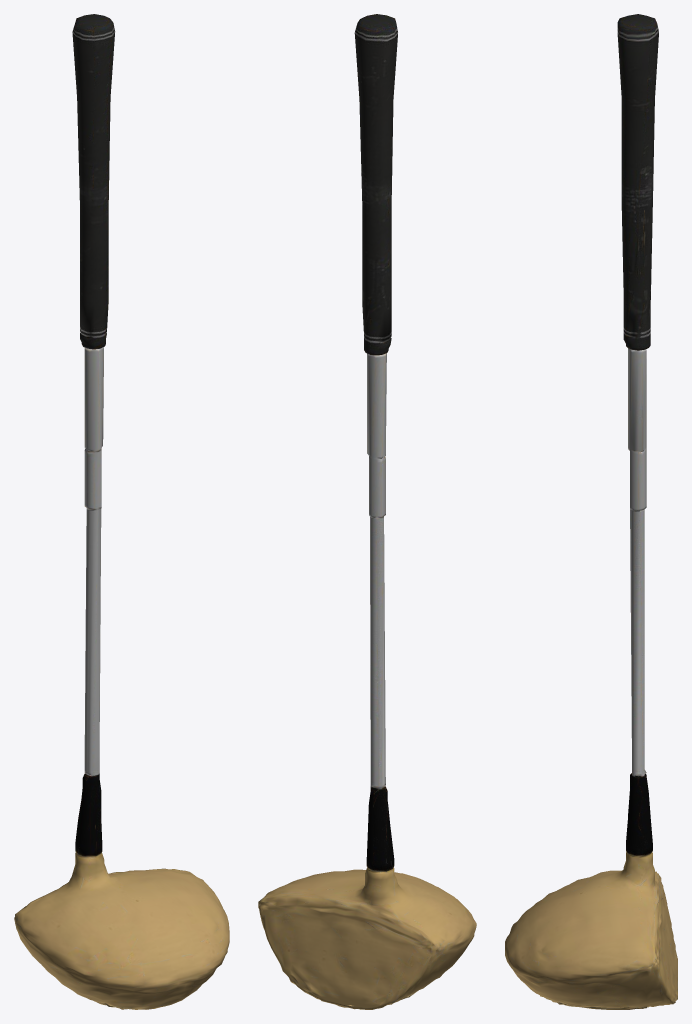
Rendered from golfclub.glb.
The picture shows the model from 3 angles, left to right: view 1: azimuth 30°, elevation 25°; view 2: azimuth 150°, elevation 25°; view 3: azimuth 270°, elevation 25°; orthographic projection.
Visible parts, largest first — view 1: tripo_node_5a378f7b-969a-4c3f-a8e4-606a0676c32f; view 2: tripo_node_5a378f7b-969a-4c3f-a8e4-606a0676c32f; view 3: tripo_node_5a378f7b-969a-4c3f-a8e4-606a0676c32f.
Boxes of the visible parts, x1,y1,x2,y2 form: tripo_node_5a378f7b-969a-4c3f-a8e4-606a0676c32f: (14, 14, 229, 1009); tripo_node_5a378f7b-969a-4c3f-a8e4-606a0676c32f: (258, 14, 476, 1009); tripo_node_5a378f7b-969a-4c3f-a8e4-606a0676c32f: (505, 14, 677, 1009).
Size of the model in its own units: 0.2012 by 0.998 by 0.1621.
1 material, 1 textured.
